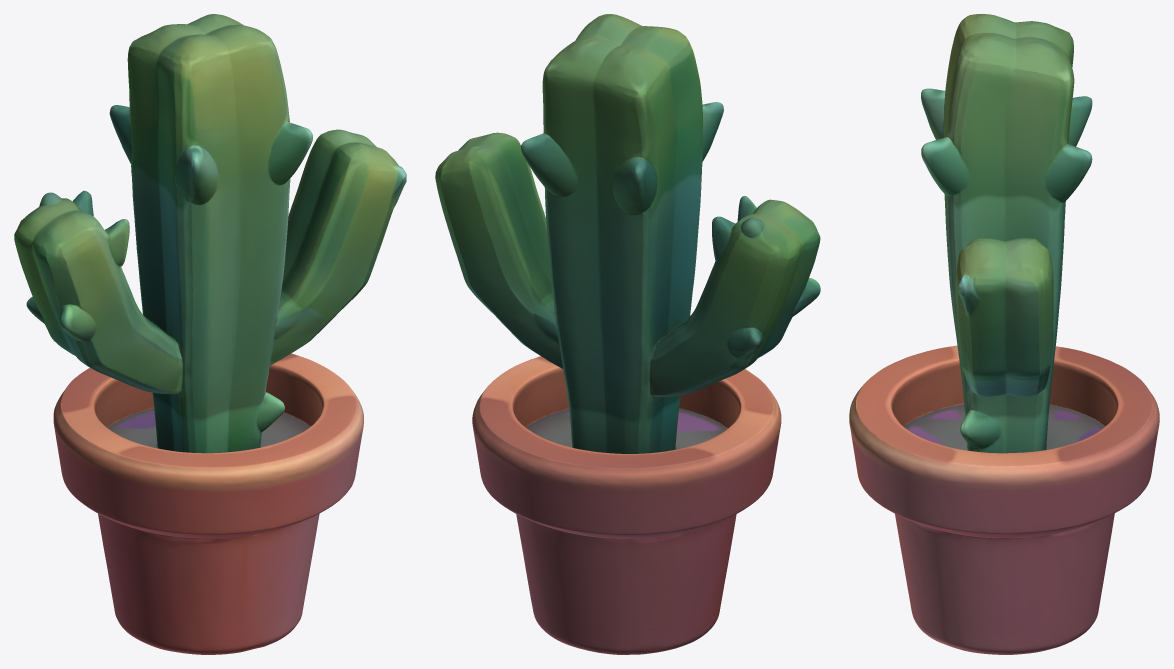
Rendered from Copy of Image to 3D_Rodin 3D V2_2026-09-09_08-33-21.glb.fbx.
3 renders of one model, left to right at view 1: azimuth 30°, elevation 25°; view 2: azimuth 150°, elevation 25°; view 3: azimuth 270°, elevation 25°, orthographic.
Visible parts, largest first — view 1: obj1; view 2: obj1; view 3: obj1.
Part boxes in pixels (bbox=[...]): obj1: bbox=[14, 14, 406, 654]; obj1: bbox=[435, 14, 820, 654]; obj1: bbox=[849, 14, 1159, 654].
Size of the model in its own units: 108 by 171 by 80.62.
Materials: 1 (1 with a texture image).
